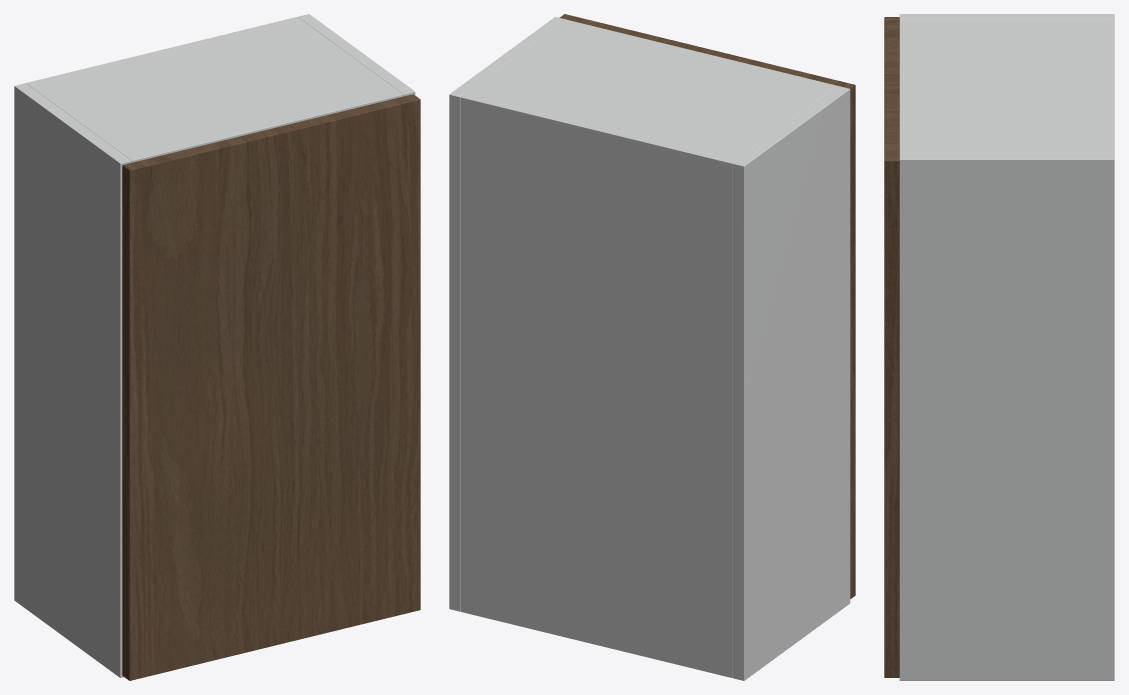
File: oppein-ply-mso-w1830.glb
3 renders of one model, left to right at view 1: azimuth 30°, elevation 25°; view 2: azimuth 150°, elevation 25°; view 3: azimuth 270°, elevation 25°, orthographic.
Parts seen in each view (by area): view 1: Door, Cabinet side, Cabinet top, Cabinet side.001, Cabinet back; view 2: Cabinet back, Cabinet side, Cabinet top, Cabinet side.001, Door; view 3: Cabinet side.001, Cabinet top, Door, Cabinet side, Cabinet back.
Part boxes in pixels (left/top/right/bottom): Door: left=122, top=94, right=420, bottom=680; Cabinet side: left=14, top=83, right=131, bottom=677; Cabinet top: left=26, top=19, right=403, bottom=162; Cabinet side.001: left=298, top=14, right=415, bottom=96; Cabinet back: left=27, top=17, right=300, bottom=85; Cabinet back: left=461, top=95, right=735, bottom=677; Cabinet side: left=732, top=86, right=850, bottom=680; Cabinet top: left=461, top=20, right=838, bottom=174; Cabinet side.001: left=449, top=17, right=566, bottom=611; Door: left=559, top=14, right=855, bottom=598; Cabinet side.001: left=899, top=154, right=1114, bottom=680; Cabinet top: left=899, top=19, right=1114, bottom=153; Door: left=884, top=17, right=899, bottom=677; Cabinet side: left=899, top=14, right=1114, bottom=19; Cabinet back: left=1106, top=19, right=1114, bottom=153.
Size of the model in its own units: 0.4572 by 0.762 by 0.3048.
2 materials, 1 textured.
